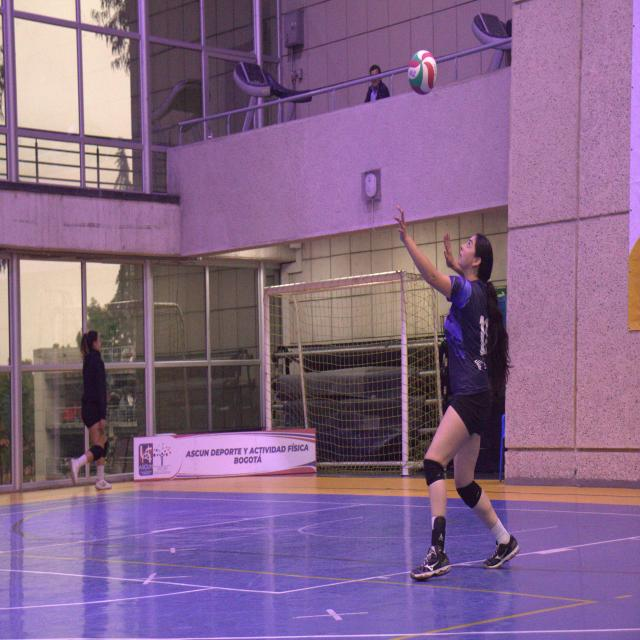volleyball: (408, 51, 436, 94)
